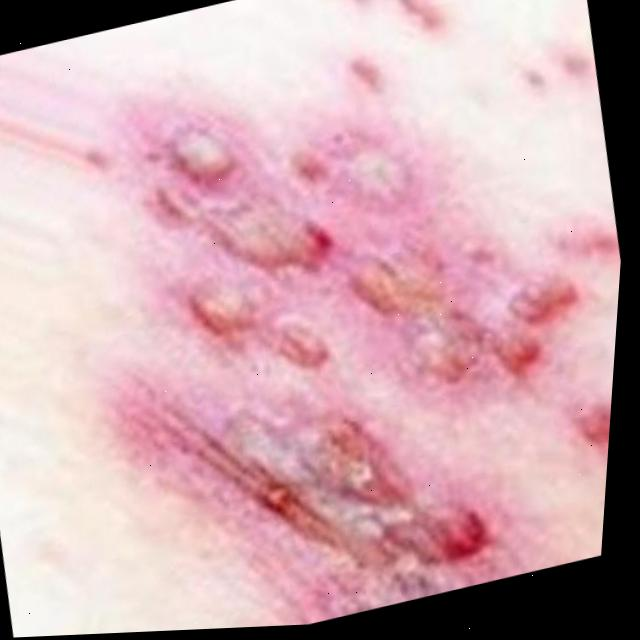Shingles: (107, 24, 637, 633)
